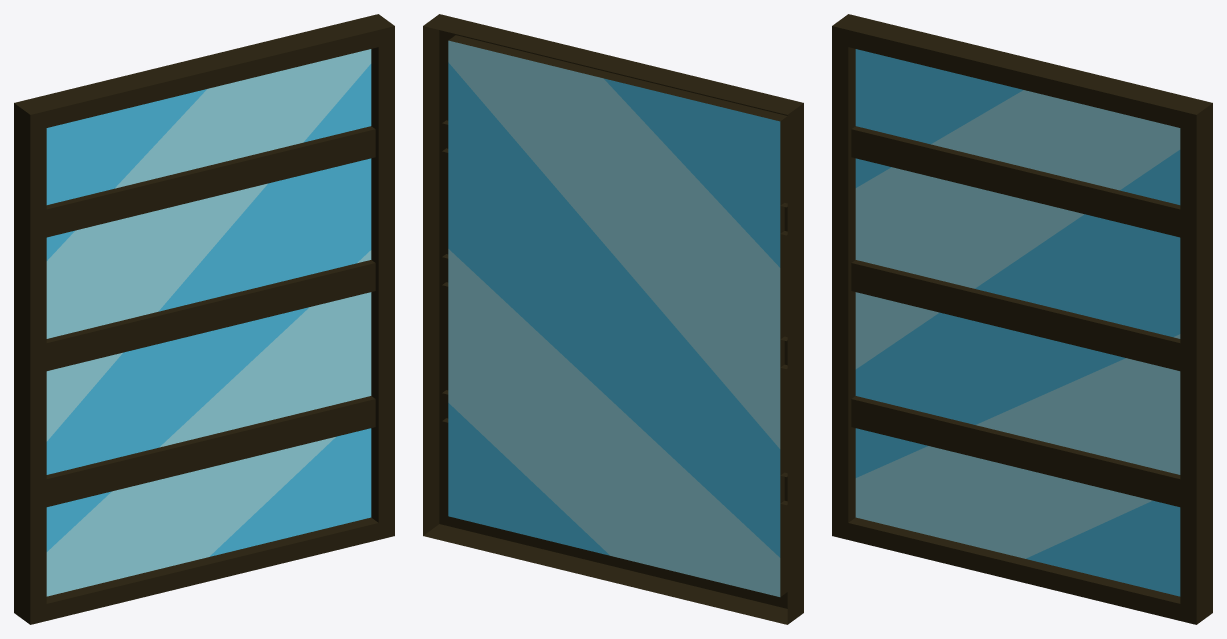
The model's file is Prop_BuildingWindow_02.fbx.
The picture shows the model from 3 angles, left to right: view 1: azimuth 30°, elevation 25°; view 2: azimuth 150°, elevation 25°; view 3: azimuth 330°, elevation 25°; orthographic projection.
Parts seen in each view (by area): view 1: Prop_BuildingWindow_02; view 2: Prop_BuildingWindow_02; view 3: Prop_BuildingWindow_02.
Part boxes in pixels (x1,y1,x2,y2): Prop_BuildingWindow_02: [14, 14, 394, 624]; Prop_BuildingWindow_02: [423, 14, 803, 624]; Prop_BuildingWindow_02: [832, 14, 1212, 624].
Size of the model in its own units: 109 by 145 by 8.49.
